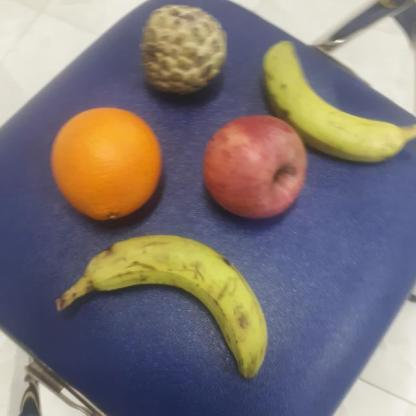annona: (139, 1, 232, 96)
apple: (200, 112, 312, 221)
banana: (80, 232, 275, 378), (258, 33, 406, 165)
orange: (47, 104, 164, 224)
